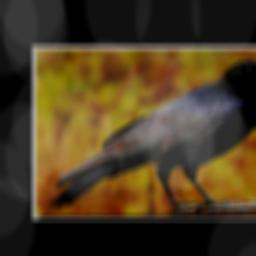Crow: (46, 57, 256, 209)
